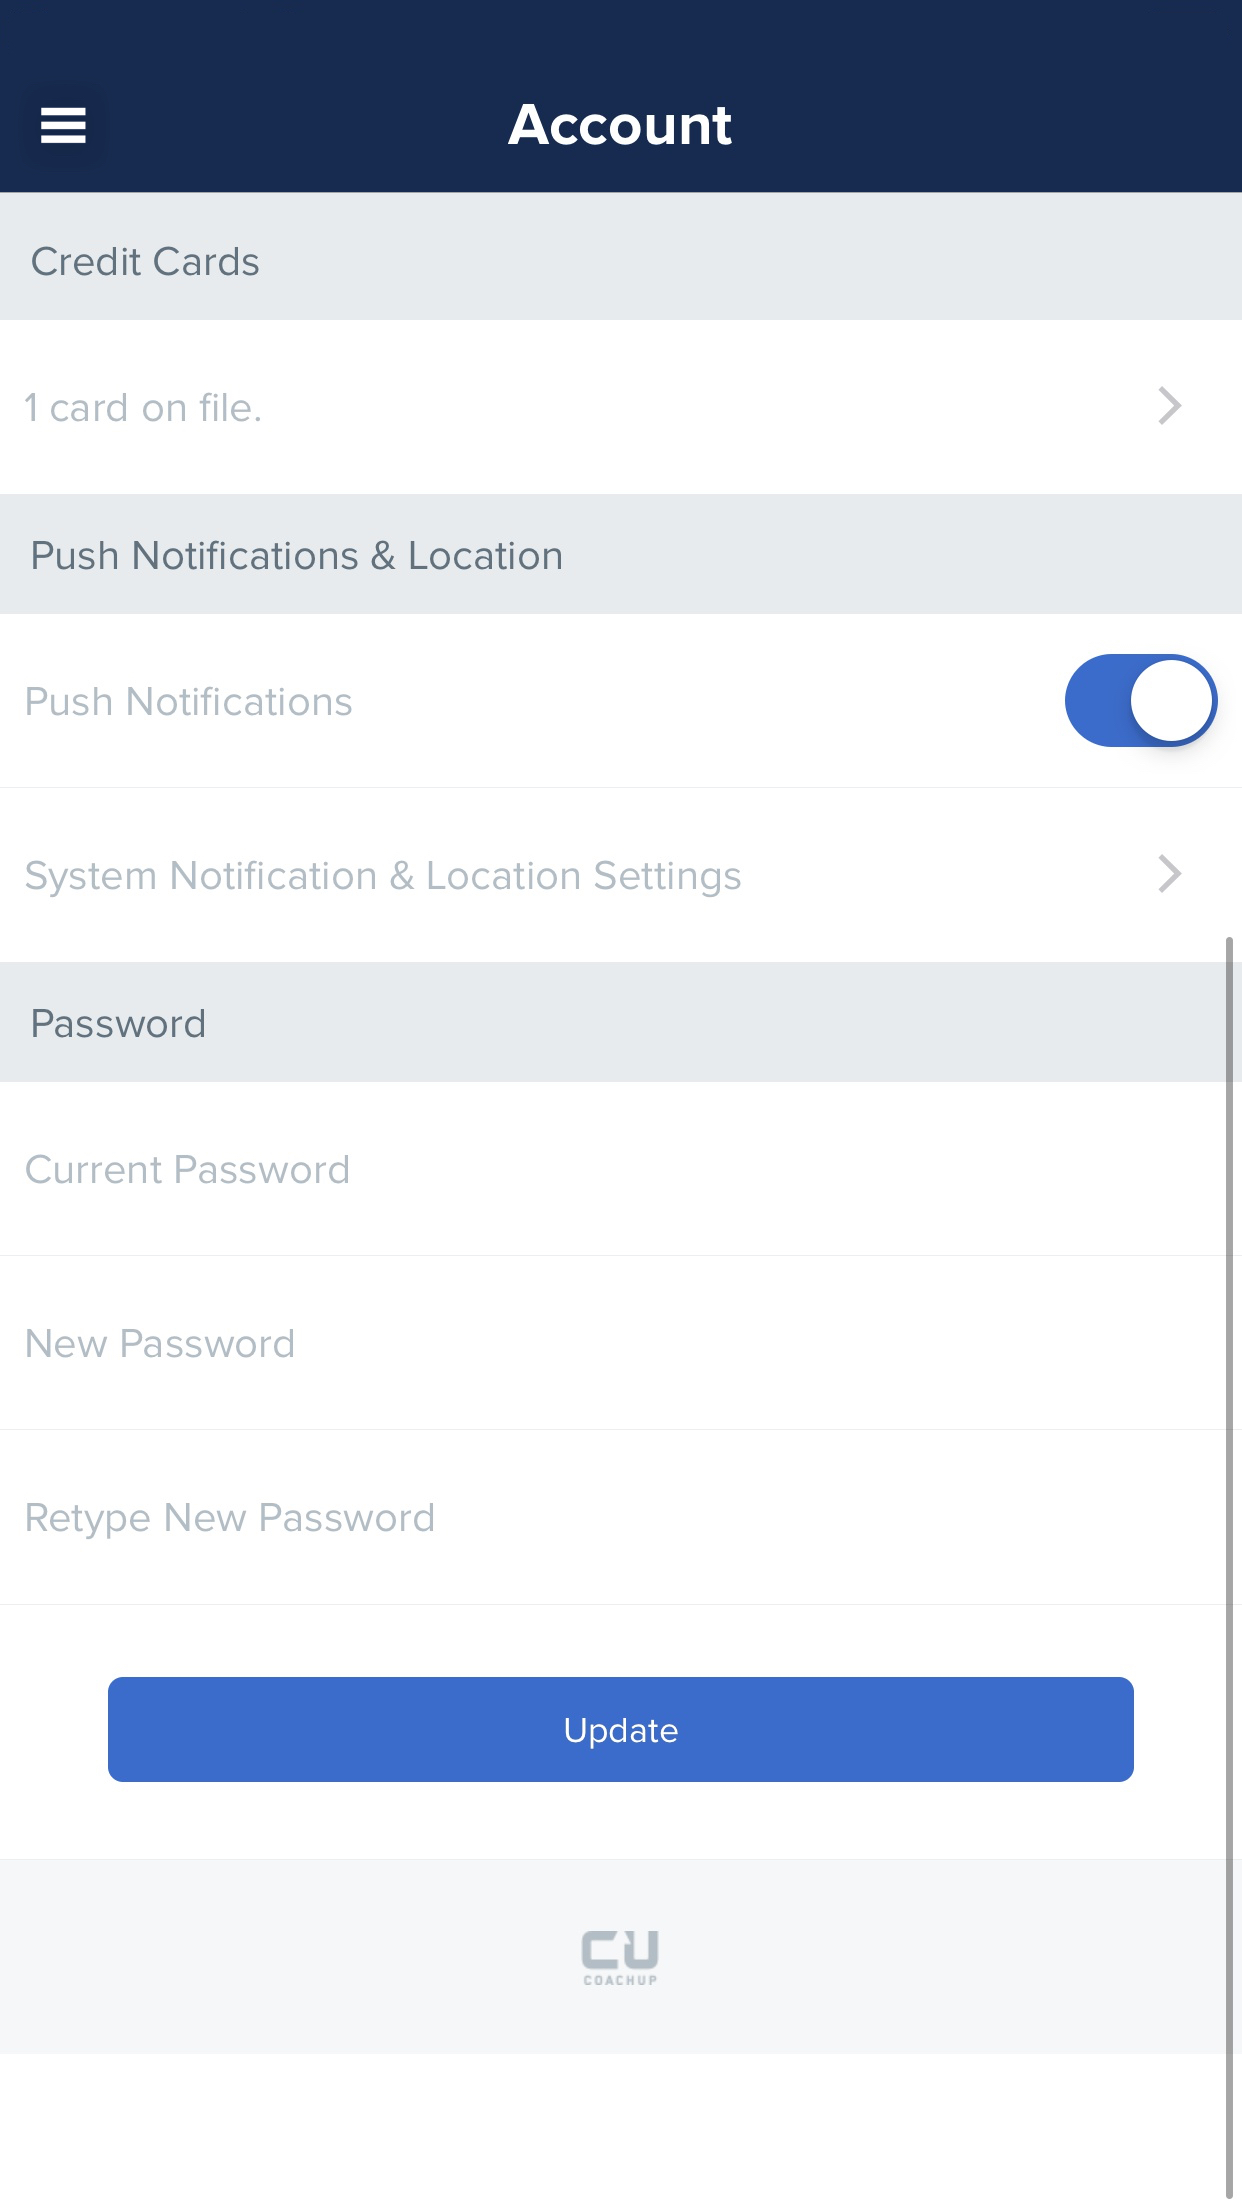Icon: (41, 106, 88, 146), (1159, 854, 1183, 895), (1159, 385, 1183, 426)
Image: (581, 1930, 660, 1988)
Switch: (1065, 654, 1219, 748)
Text: (27, 860, 742, 898), (33, 540, 563, 572), (27, 1501, 434, 1541), (21, 684, 352, 717), (27, 1154, 350, 1184), (507, 105, 732, 147), (27, 1328, 296, 1359), (24, 393, 262, 425), (32, 246, 259, 278), (33, 1008, 206, 1039)
TextButton: (108, 1676, 1134, 1783)
